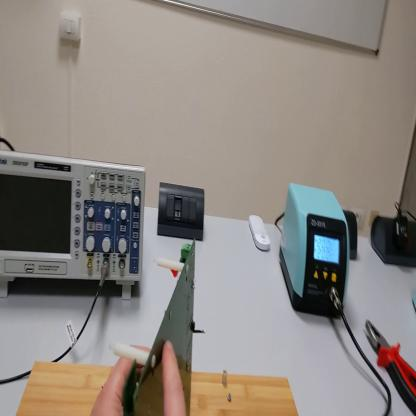hand: (88, 342, 187, 415)
low voltage board: (109, 241, 207, 416)
oscilloscope: (2, 152, 148, 302)
pliers: (365, 317, 416, 416)
socket: (371, 214, 414, 268), (344, 209, 357, 259)
welder base: (412, 286, 416, 311)
welder station: (280, 183, 350, 319)
working area: (18, 361, 300, 415)
